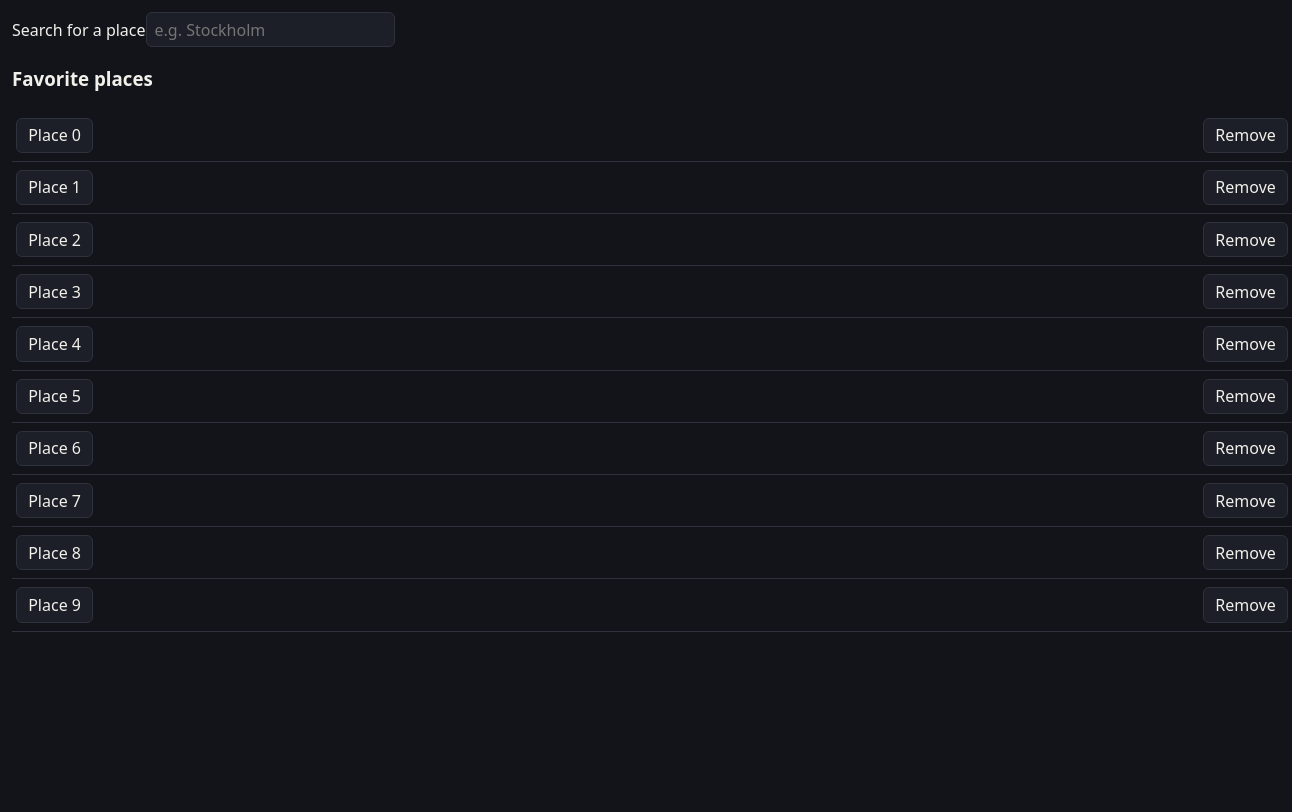
Test: US2: Favorites — search, add, persist, duplicate/limit, remove › blocks adding beyond the favorites limit and explains why
Step 1. Type "One Too Many" into the field labelled "Search for a place" → (270, 30), box [146, 12, 394, 47]
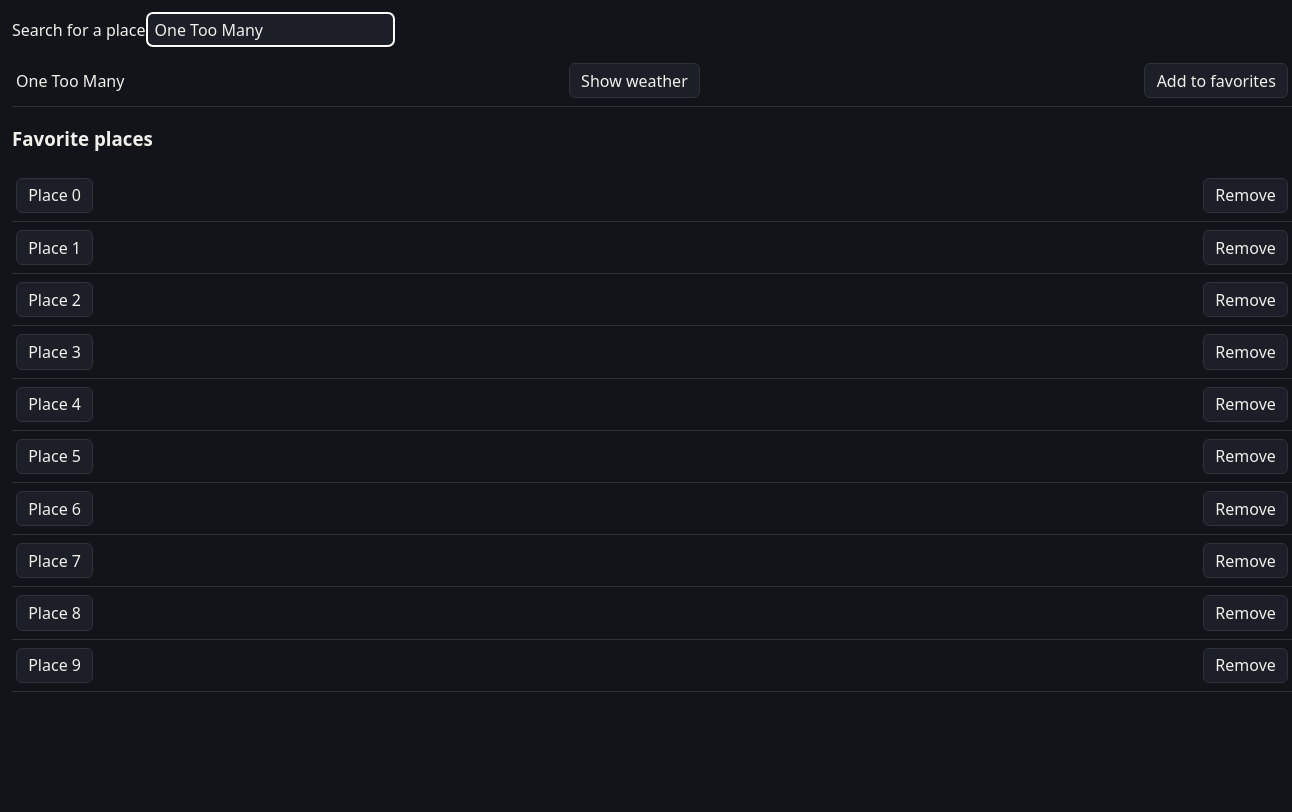
Step 2. Click the button "Add to favorites" → click(1216, 81), box [1144, 63, 1288, 98]
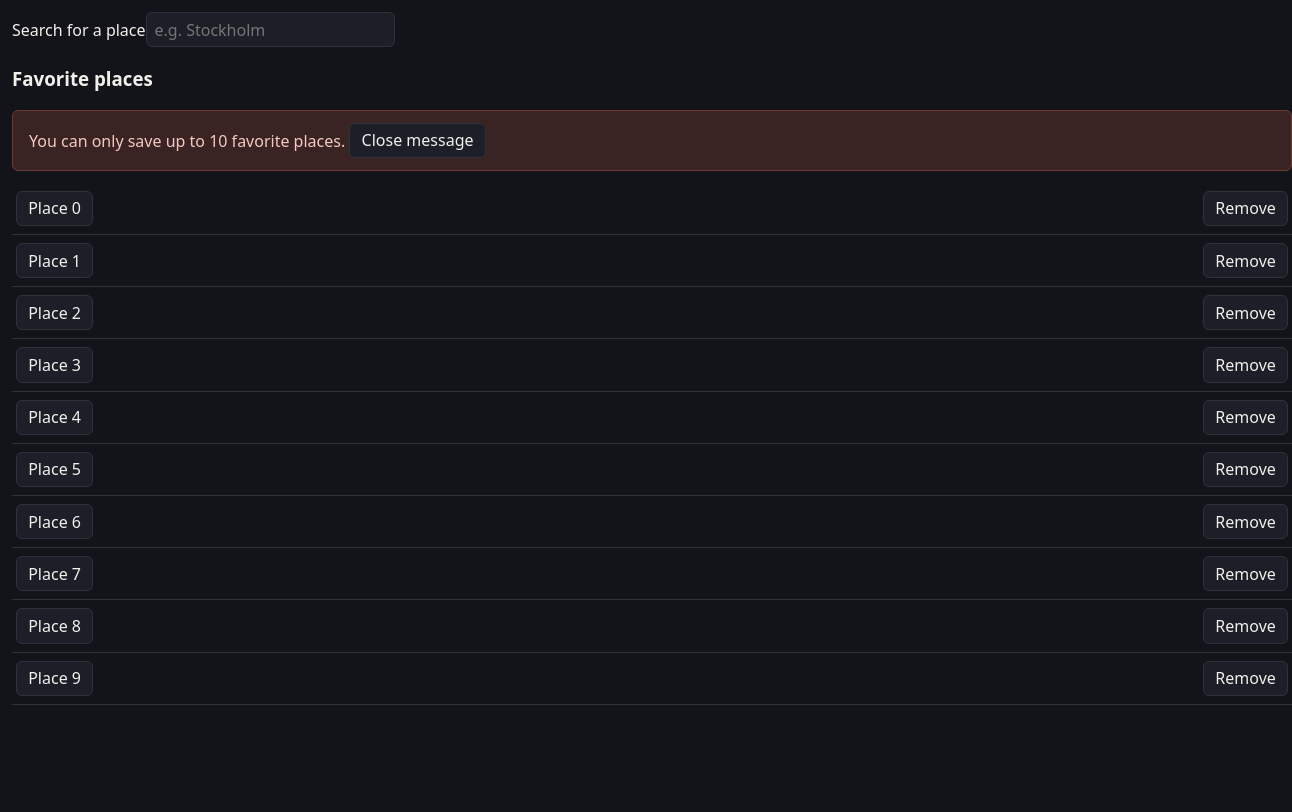
Check: the message shows "up to 10", box [29, 129, 345, 151]
